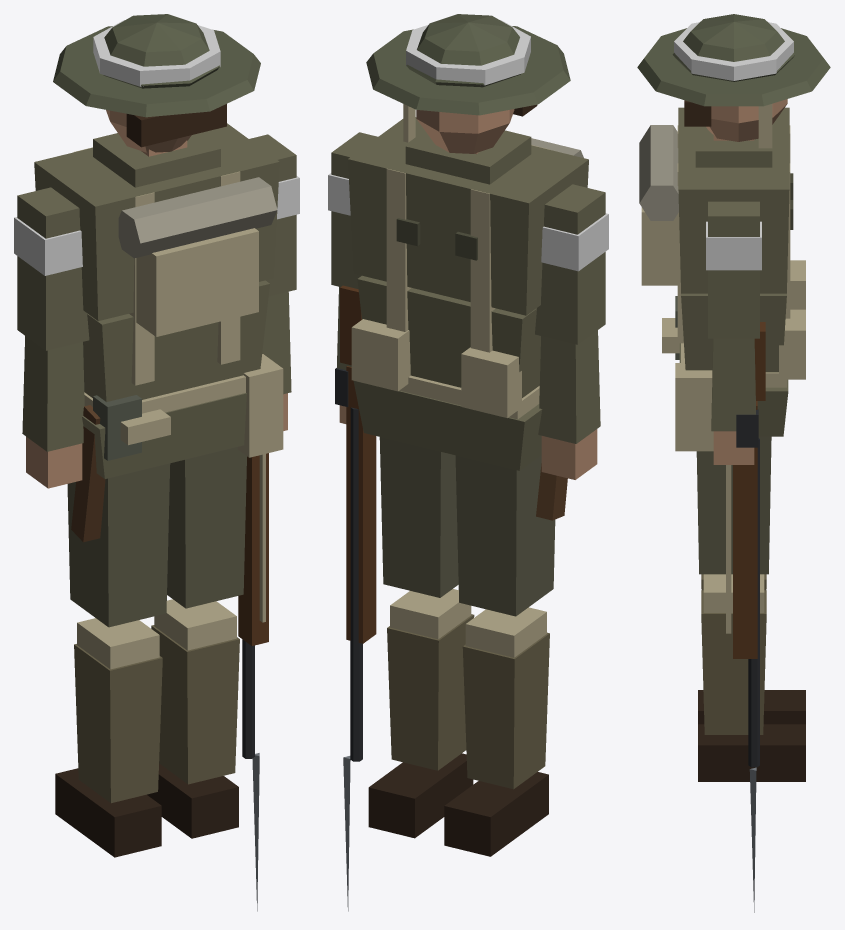
The model's file is soldier_c20_rifle_lod0.glb.
3 renders of one model, left to right at view 1: azimuth 30°, elevation 25°; view 2: azimuth 150°, elevation 25°; view 3: azimuth 270°, elevation 25°, orthographic. The views are drawn at different scales.
Visible parts, largest first — view 1: c20_rifle_lod0_static; view 2: c20_rifle_lod0_static; view 3: c20_rifle_lod0_static.
Boxes of the visible parts, x1,y1,x2,y2 form: c20_rifle_lod0_static: (14,14,299,911); c20_rifle_lod0_static: (328,14,608,911); c20_rifle_lod0_static: (637,14,830,912).
Size of the model in its own units: 0.595 by 2.07 by 0.43.
